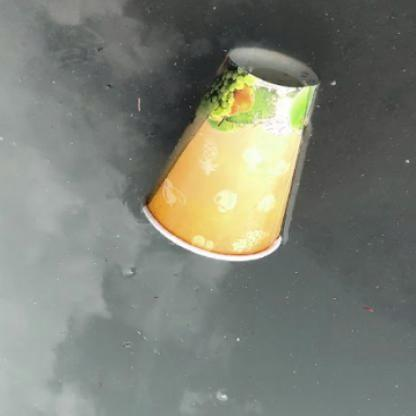Plastic: (138, 44, 322, 264)
